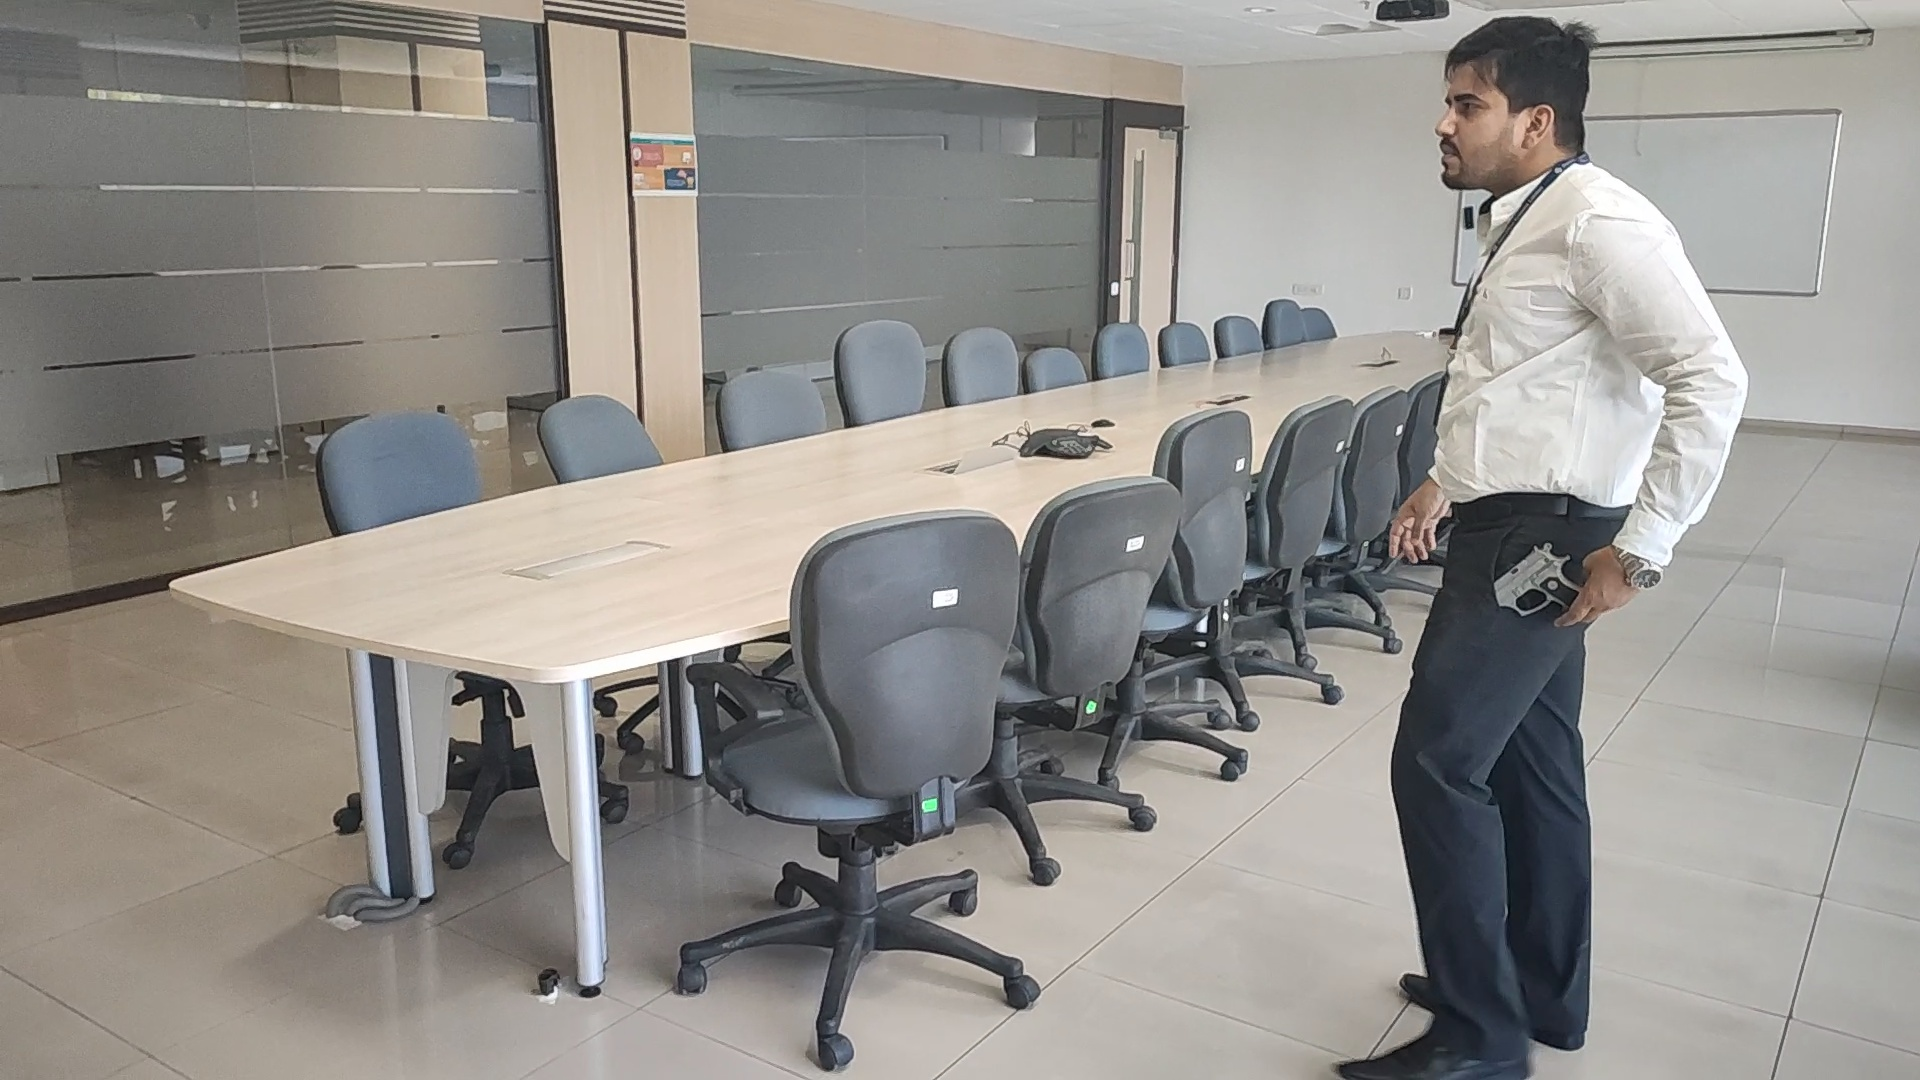gun: (1486, 543, 1581, 618)
